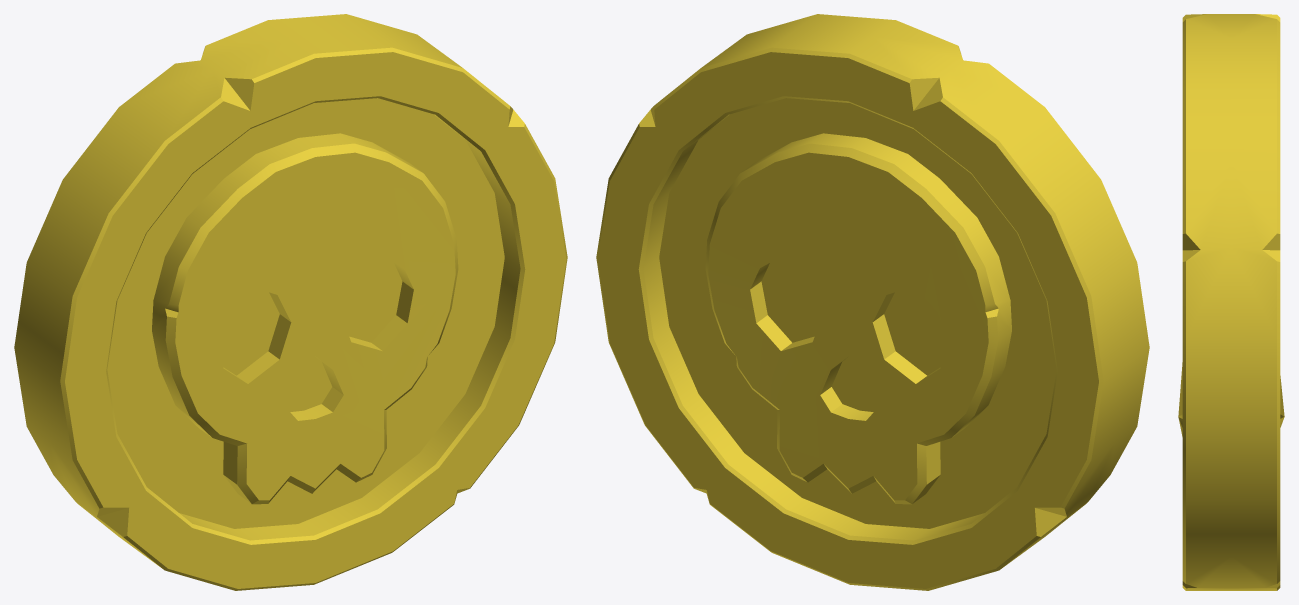
Rendered from Gold Coin_DoubleSided 1.fbx.
3 views of the same model, side by side, from view 1: azimuth 30°, elevation 25°; view 2: azimuth 150°, elevation 25°; view 3: azimuth 270°, elevation 25° (orthographic).
Parts seen in each view (by area): view 1: Gold Coin; view 2: Gold Coin; view 3: Gold Coin.
Part boxes in pixels (left/top/right/bottom): Gold Coin: left=14, top=14, right=567, bottom=590; Gold Coin: left=596, top=14, right=1149, bottom=590; Gold Coin: left=1178, top=14, right=1284, bottom=590.
Size of the model in its own units: 2 by 2 by 0.3656.
